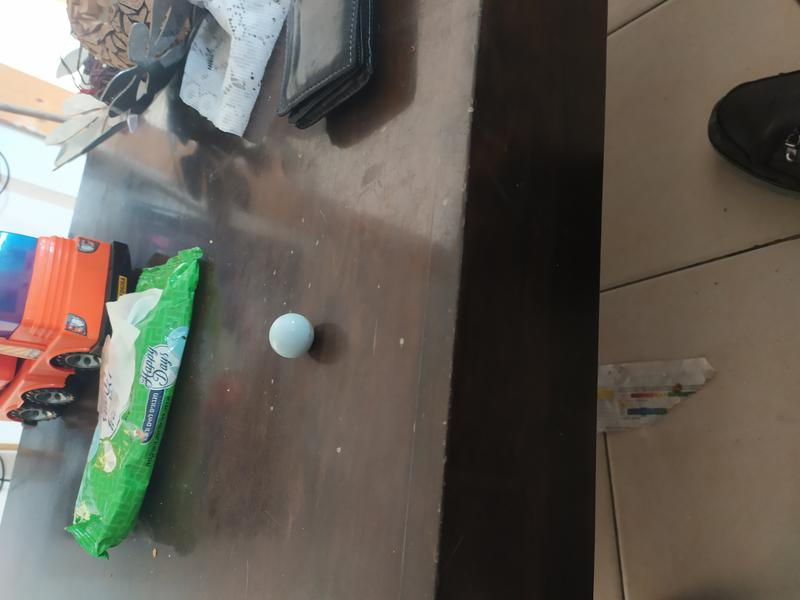Warning: (267, 311, 317, 361)
